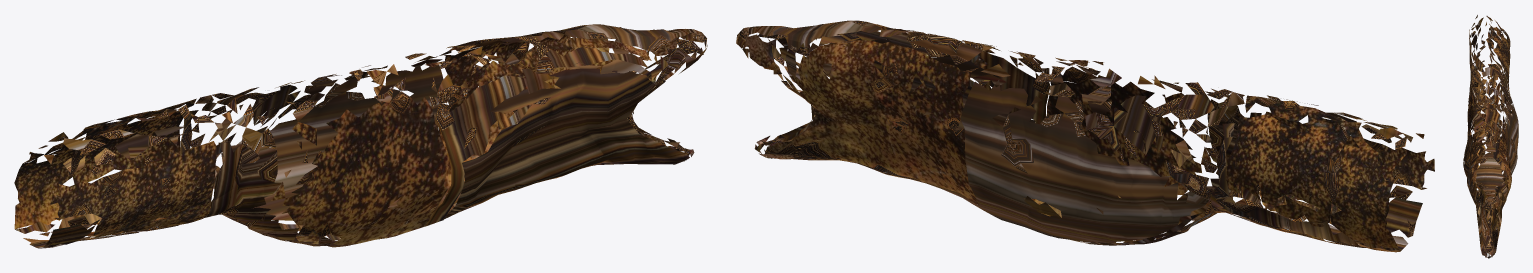
The model's file is moray_a.glb.
The picture shows the model from 3 angles, left to right: view 1: azimuth 30°, elevation 25°; view 2: azimuth 150°, elevation 25°; view 3: azimuth 270°, elevation 25°; orthographic projection. The views are drawn at different scales.
Visible parts, largest first — view 1: moray_a; view 2: moray_a; view 3: moray_a.
Boxes of the visible parts, bbox=[...] form: moray_a: bbox=[14, 24, 707, 248]; moray_a: bbox=[736, 20, 1434, 252]; moray_a: bbox=[1463, 15, 1518, 258].
Bounding box in the file's own units: 0.869 × 0.2276 × 0.1231.
Materials: 1 (1 with a texture image).
